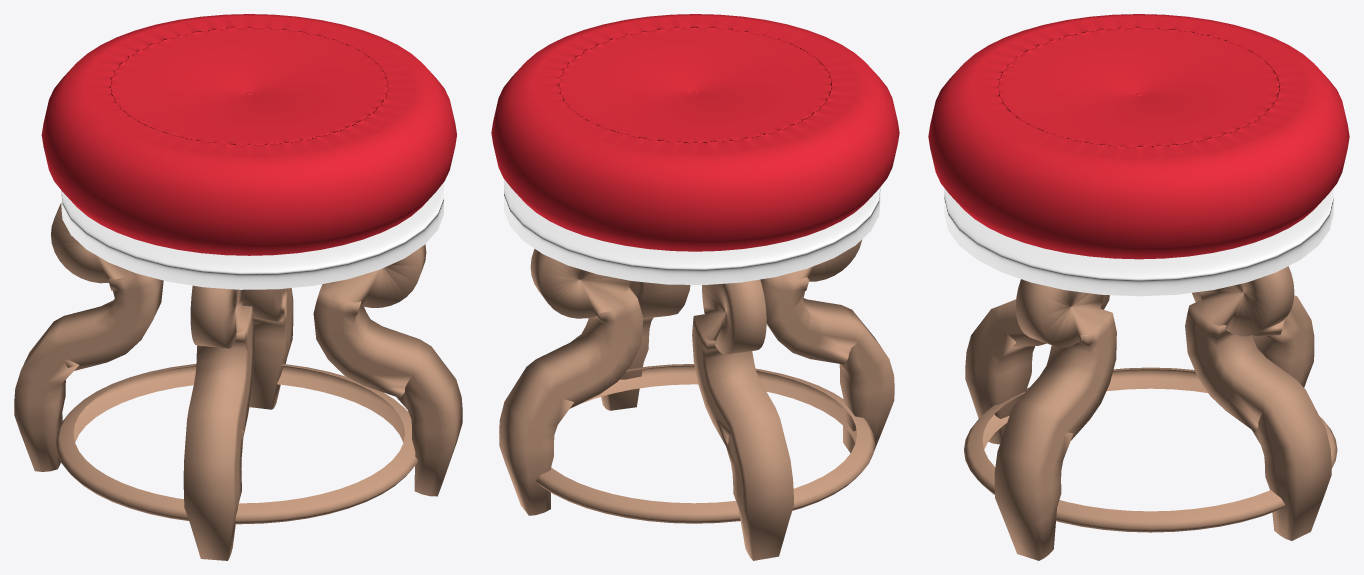
3 views of the same model, side by side, from view 1: azimuth 30°, elevation 25°; view 2: azimuth 150°, elevation 25°; view 3: azimuth 270°, elevation 25° (orthographic). The views are drawn at different scales.
Parts seen in each view (by area): view 1: Cylinder.001, Circle.001, Torus.002, Cylinder; view 2: Cylinder.001, Circle.001, Cylinder, Torus.002; view 3: Cylinder.001, Circle.001, Cylinder, Torus.002.
Part boxes in pixels (x1=…): Cylinder.001: x1=41, y1=14, x2=456, y2=255; Circle.001: x1=14, y1=203, x2=462, y2=560; Torus.002: x1=55, y1=364, x2=418, y2=524; Cylinder: x1=61, y1=182, x2=443, y2=289; Cylinder.001: x1=491, y1=14, x2=899, y2=251; Circle.001: x1=499, y1=239, x2=894, y2=560; Cylinder: x1=504, y1=179, x2=880, y2=284; Torus.002: x1=536, y1=364, x2=874, y2=523; Cylinder.001: x1=928, y1=14, x2=1349, y2=259; Circle.001: x1=965, y1=266, x2=1331, y2=560; Cylinder: x1=944, y1=188, x2=1333, y2=296; Torus.002: x1=964, y1=367, x2=1337, y2=532.
Bounding box in the file's own units: 3.16 × 3.34 × 3.16.
